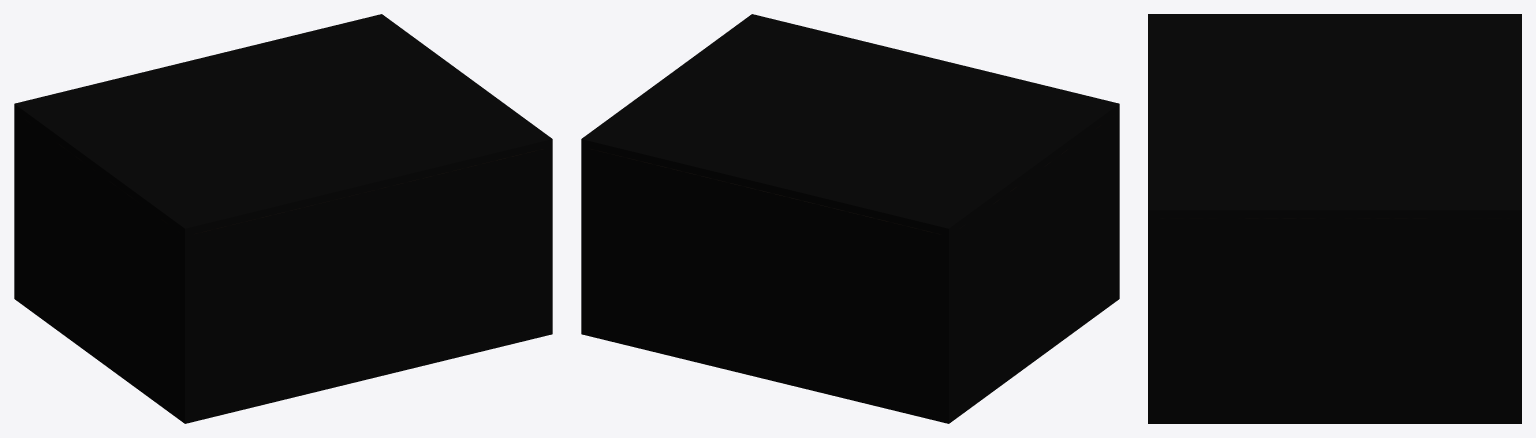
File: room-bake.glb
The picture shows the model from 3 angles, left to right: view 1: azimuth 30°, elevation 25°; view 2: azimuth 150°, elevation 25°; view 3: azimuth 270°, elevation 25°; orthographic projection. The views are drawn at different scales.
Visible parts, largest first — view 1: Wall_Front, Ceiling, Wall_Left, Wall_Right, Wall_Back; view 2: Wall_Back, Ceiling, Wall_Left, Wall_Front; view 3: Ceiling, Wall_Right, Wall_Front, Wall_Back.
Part boxes in pixels (box(x1,y1,x2,y2)): Wall_Front: box(180, 146, 552, 423); Ceiling: box(14, 14, 552, 236); Wall_Left: box(15, 115, 193, 420); Wall_Right: box(543, 147, 551, 336); Wall_Back: box(14, 111, 19, 301); Wall_Back: box(581, 146, 953, 423); Ceiling: box(581, 14, 1119, 236); Wall_Left: box(940, 111, 1119, 421); Wall_Front: box(1114, 112, 1119, 302); Ceiling: box(1148, 14, 1521, 218); Wall_Right: box(1148, 218, 1521, 423); Wall_Front: box(1148, 218, 1159, 423); Wall_Back: box(1510, 218, 1521, 423).
Bounding box in the file's own units: 6.15 × 3.12 × 4.95.
15 materials, 11 textured.
